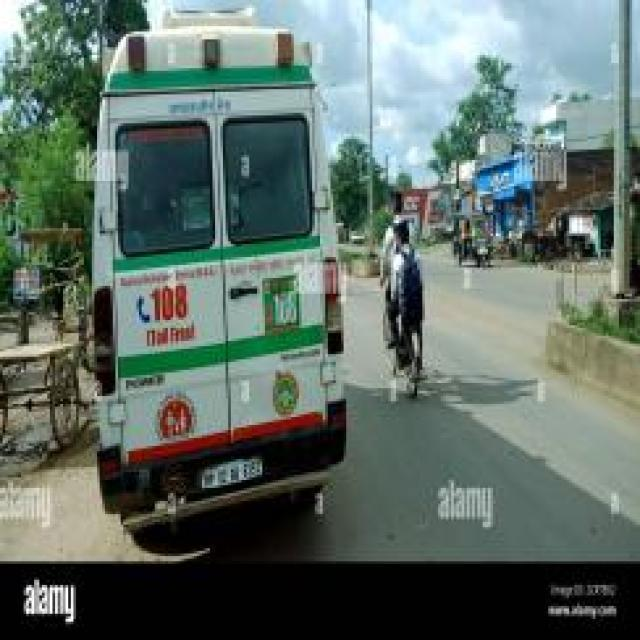Ambulance: (0, 241, 637, 563), (81, 10, 349, 538), (375, 215, 430, 386)
